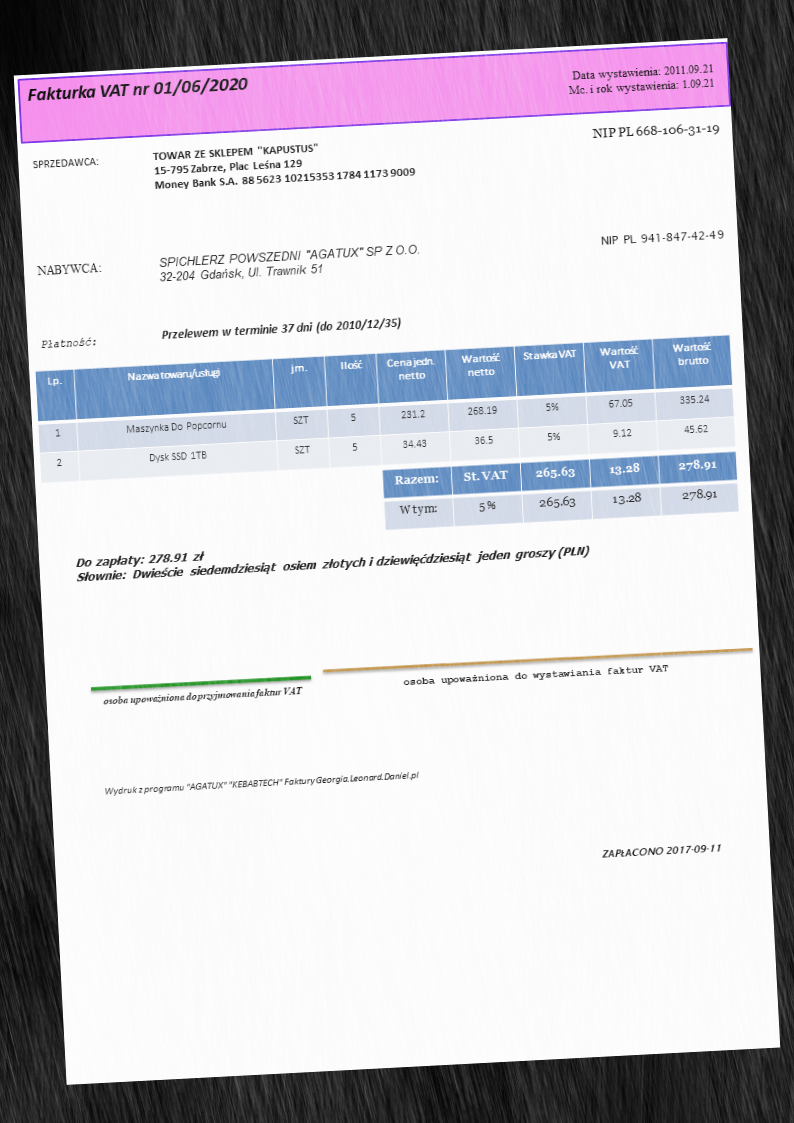Table: (34, 333, 737, 486), (381, 449, 741, 531)
TextBox: (73, 527, 593, 588), (149, 137, 416, 193), (156, 240, 424, 285), (103, 768, 421, 799), (401, 661, 671, 689), (159, 315, 402, 345), (25, 74, 250, 106), (563, 59, 716, 99), (101, 684, 304, 709), (589, 119, 721, 144), (599, 227, 726, 249), (599, 840, 723, 860), (34, 259, 103, 278), (30, 154, 100, 172), (39, 333, 97, 351)
